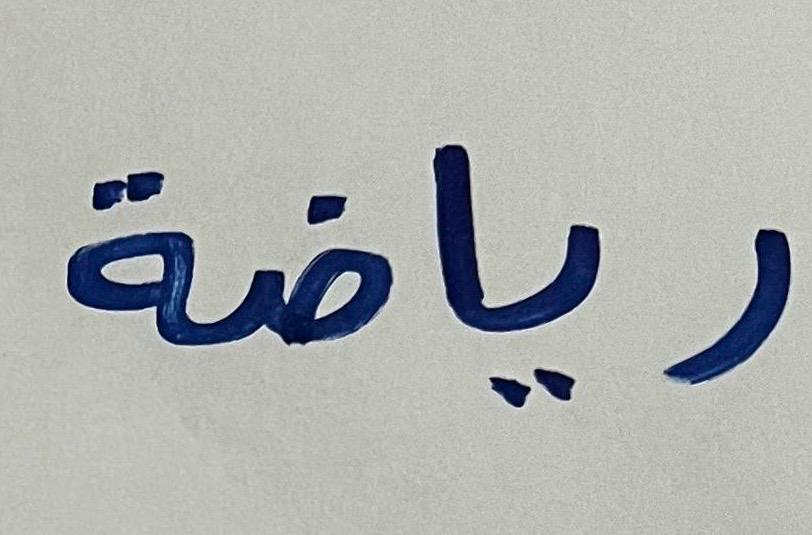alef: (402, 94, 483, 389)
dad: (217, 169, 397, 409)
reh: (626, 127, 805, 448)
teh_marbota: (25, 110, 208, 384)
yeh: (487, 185, 617, 456)
